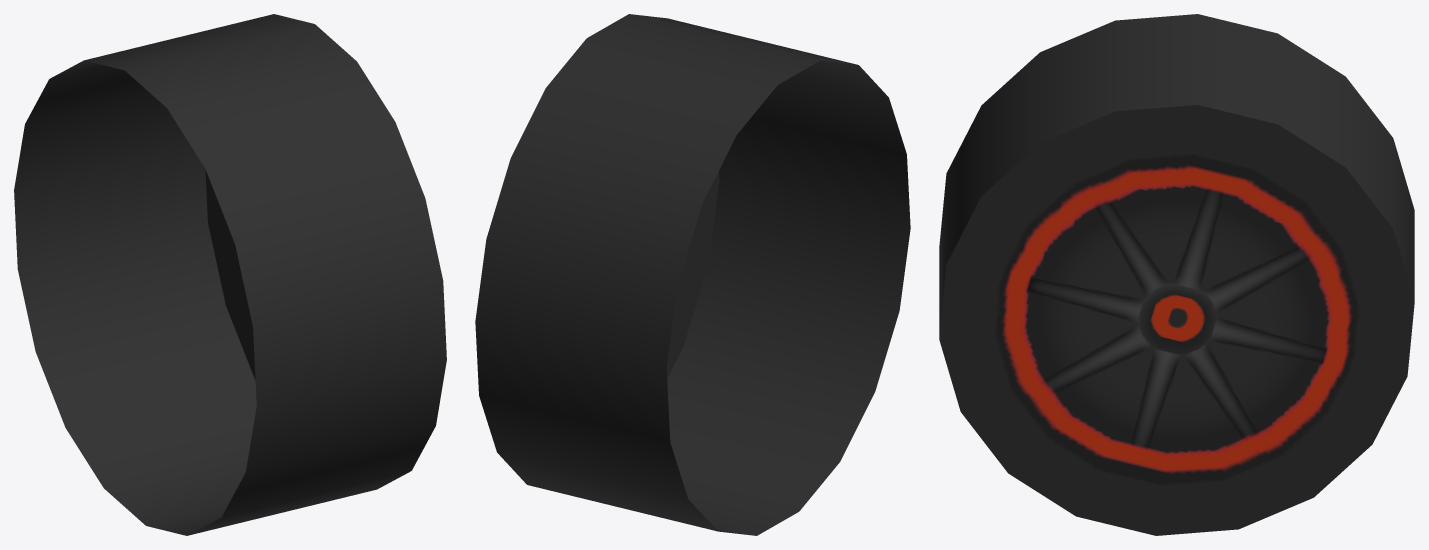
File: wheel 1.FBX
The picture shows the model from 3 angles, left to right: view 1: azimuth 30°, elevation 25°; view 2: azimuth 150°, elevation 25°; view 3: azimuth 270°, elevation 25°; orthographic projection. The views are drawn at different scales.
Parts seen in each view (by area): view 1: Cylinder003; view 2: Cylinder003; view 3: Cylinder003.
Boxes of the visible parts, <box> form: Cylinder003: <box>14,14,446,535</box>; Cylinder003: <box>475,14,910,535</box>; Cylinder003: <box>939,14,1414,535</box>.
Size of the model in its own units: 239 by 527 by 527.
Materials: 1 (1 with a texture image).
